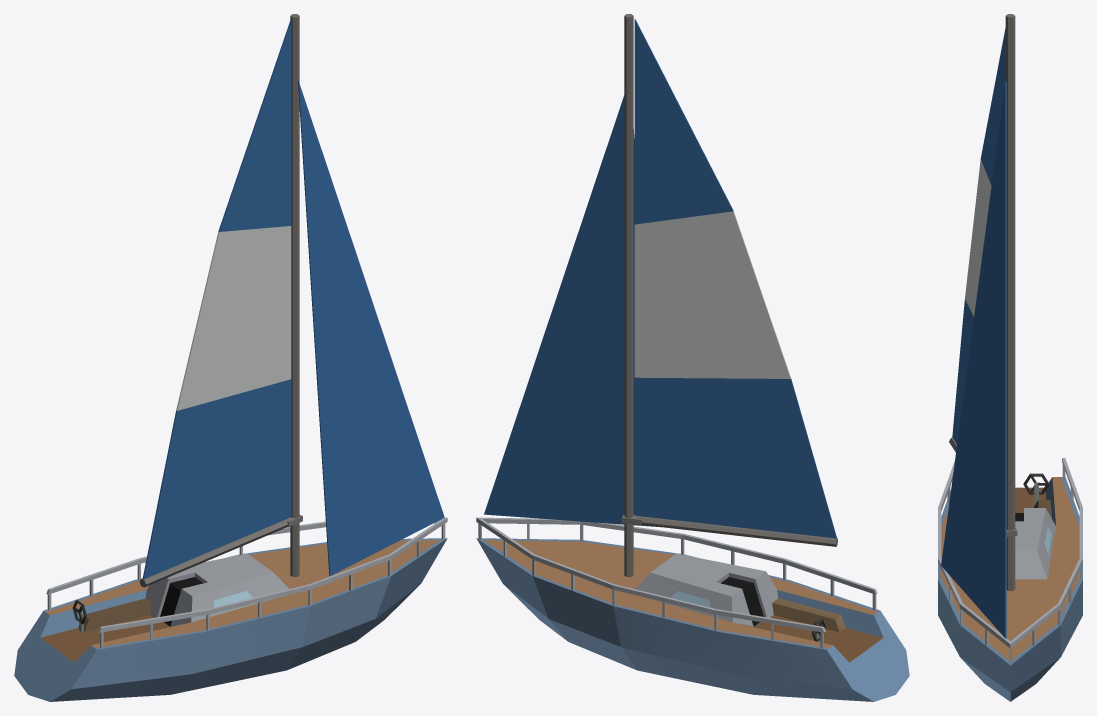
File: SM_Prop_Background_Boat_02.fbx
The picture shows the model from 3 angles, left to right: view 1: azimuth 30°, elevation 25°; view 2: azimuth 150°, elevation 25°; view 3: azimuth 270°, elevation 25°; orthographic projection. The views are drawn at different scales.
Visible parts, largest first — view 1: SM_Prop_Background_Boat_02; view 2: SM_Prop_Background_Boat_02; view 3: SM_Prop_Background_Boat_02.
Part boxes in pixels (x1=…): SM_Prop_Background_Boat_02: x1=14, y1=14, x2=447, y2=701; SM_Prop_Background_Boat_02: x1=476, y1=14, x2=909, y2=701; SM_Prop_Background_Boat_02: x1=938, y1=14, x2=1082, y2=701.
Bounding box in the file's own units: 1003 × 1460 × 293.
